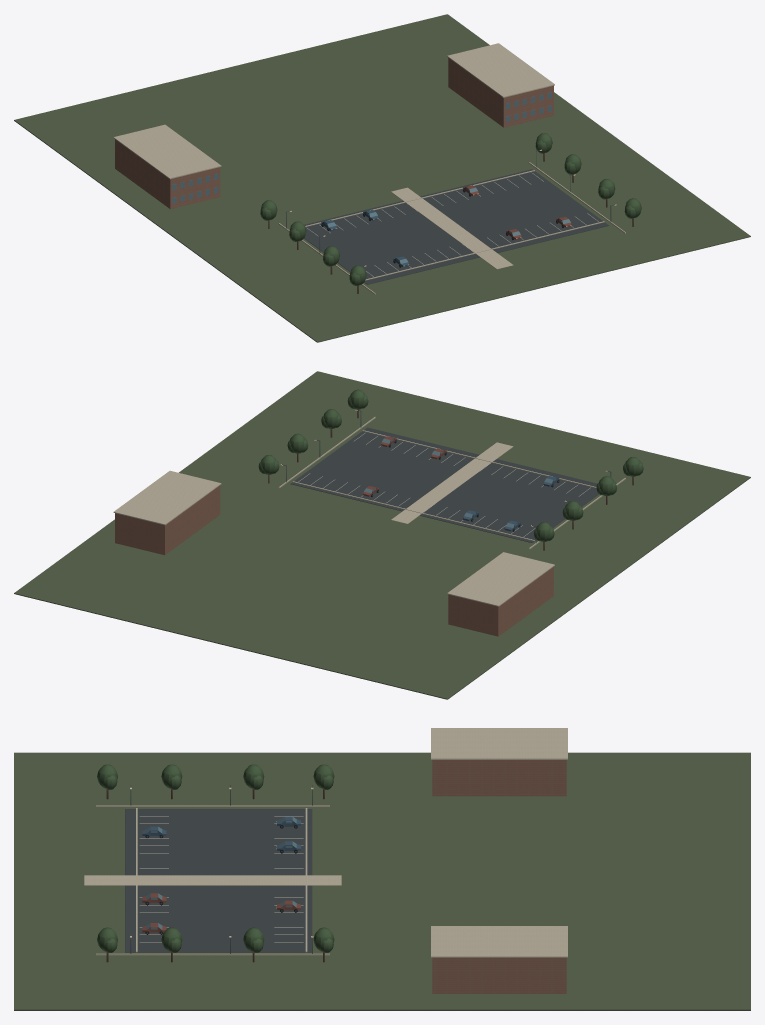
Rendered from ENV_CampusGrounds.glb.
3 views of the same model, one above another, from view 1: azimuth 30°, elevation 25°; view 2: azimuth 150°, elevation 25°; view 3: azimuth 270°, elevation 25° (orthographic). The views are drawn at different scales.
Parts seen in each view (by area): view 1: Campus_SurfaceAndPlanting; view 2: Campus_SurfaceAndPlanting; view 3: Campus_SurfaceAndPlanting.
Boxes of the visible parts, box(x1,y1,x2,y2) form: Campus_SurfaceAndPlanting: box(14, 14, 750, 342); Campus_SurfaceAndPlanting: box(14, 371, 750, 699); Campus_SurfaceAndPlanting: box(14, 728, 750, 1010).
Size of what is drawn, in the model's own units: 104 by 7.54 by 126.
13 materials, 13 textured.
